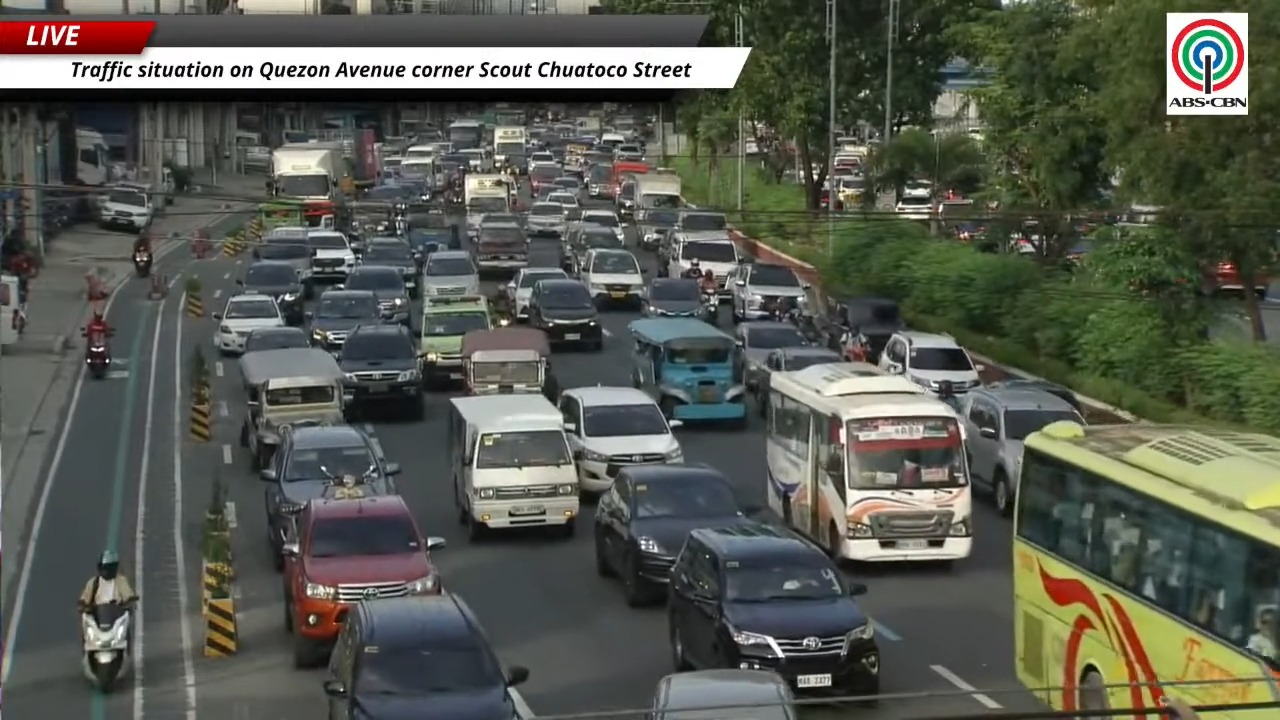bus: (1013, 421, 1279, 717), (765, 363, 972, 562), (446, 120, 484, 151)
car: (668, 523, 880, 695), (282, 488, 441, 668), (323, 593, 528, 719), (593, 464, 752, 606), (259, 426, 399, 569), (959, 387, 1086, 515), (559, 386, 682, 492), (337, 324, 423, 419), (649, 668, 797, 719), (878, 330, 984, 394), (754, 346, 841, 417), (529, 278, 603, 351), (666, 231, 741, 300), (735, 320, 809, 389), (827, 296, 904, 362), (726, 263, 807, 321), (308, 289, 380, 354), (236, 260, 304, 324), (252, 229, 313, 300), (214, 293, 285, 354), (344, 265, 410, 324), (580, 249, 645, 306), (360, 238, 419, 298), (561, 222, 624, 274), (506, 268, 567, 321), (986, 378, 1082, 411), (641, 278, 712, 320), (422, 250, 479, 297), (306, 229, 356, 282), (243, 326, 309, 353), (636, 209, 678, 250), (525, 201, 565, 237), (580, 210, 624, 241), (528, 156, 562, 196), (676, 209, 727, 232), (584, 163, 615, 199), (895, 195, 933, 220), (614, 178, 636, 220), (546, 189, 580, 209), (481, 212, 522, 227), (529, 151, 558, 171), (551, 176, 582, 194)
motorcycle: (81, 603, 132, 693), (82, 329, 113, 379), (85, 342, 112, 380), (701, 290, 719, 324), (133, 250, 152, 277)
truck: (420, 295, 492, 387), (272, 142, 345, 227), (271, 143, 340, 200), (464, 174, 510, 237), (75, 127, 111, 185), (464, 174, 509, 216), (635, 174, 684, 211), (350, 128, 381, 186), (493, 126, 526, 167), (575, 115, 602, 136)
